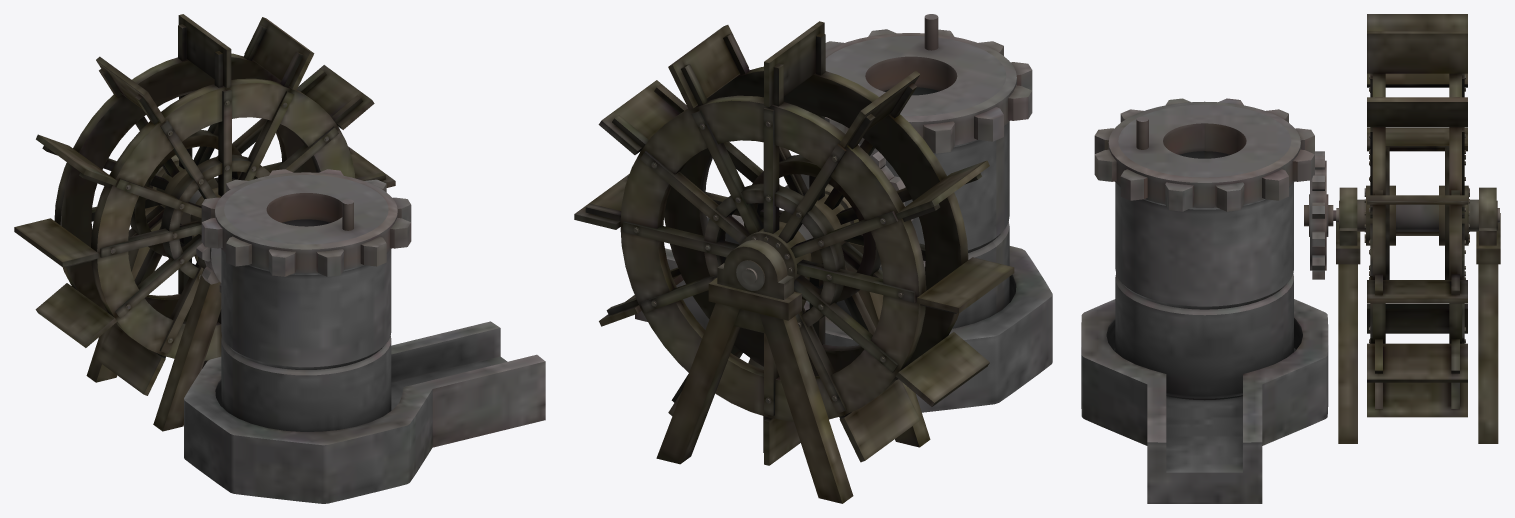
Rendered from SK_StoneMill_e1d878.glb.
3 views of the same model, side by side, from view 1: azimuth 30°, elevation 25°; view 2: azimuth 150°, elevation 25°; view 3: azimuth 270°, elevation 25° (orthographic). The views are drawn at different scales.
Size of the model in its own units: 2.66 by 2.36 by 2.42.
Materials: 1 (1 with a texture image).
